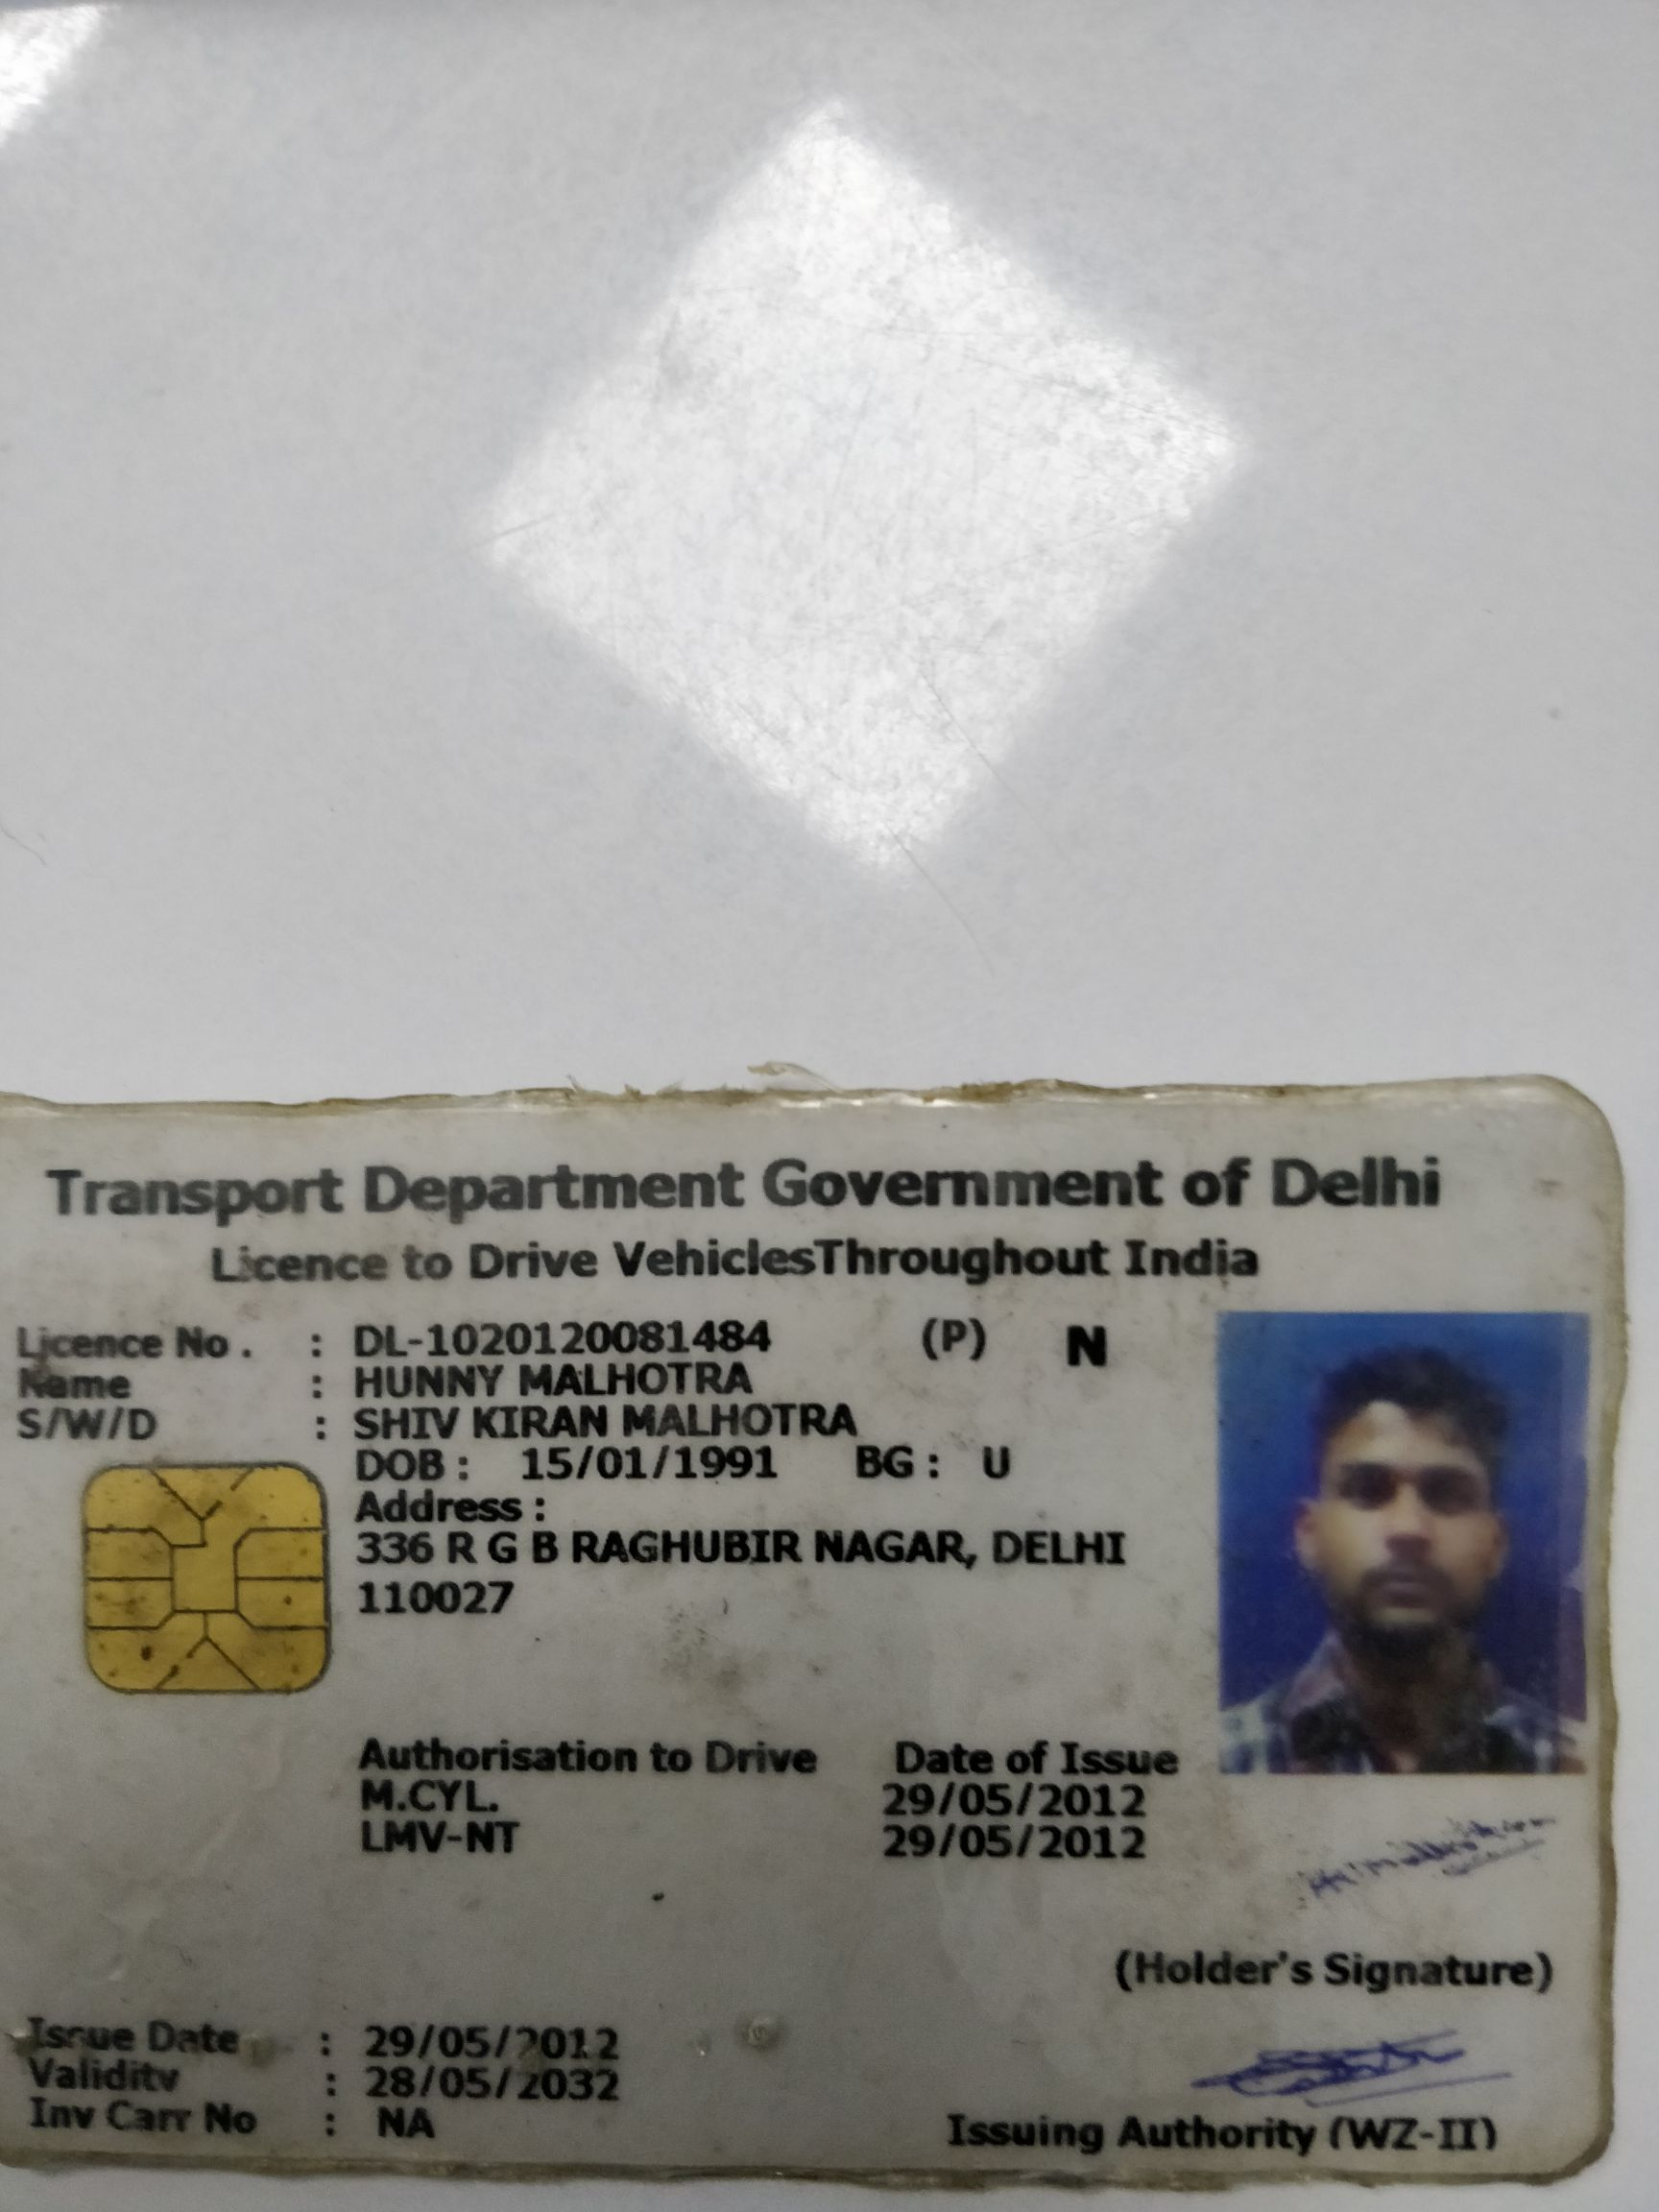text: (19, 1397, 857, 1454), (12, 1319, 782, 1361), (12, 1361, 757, 1403), (358, 1435, 780, 1486)
